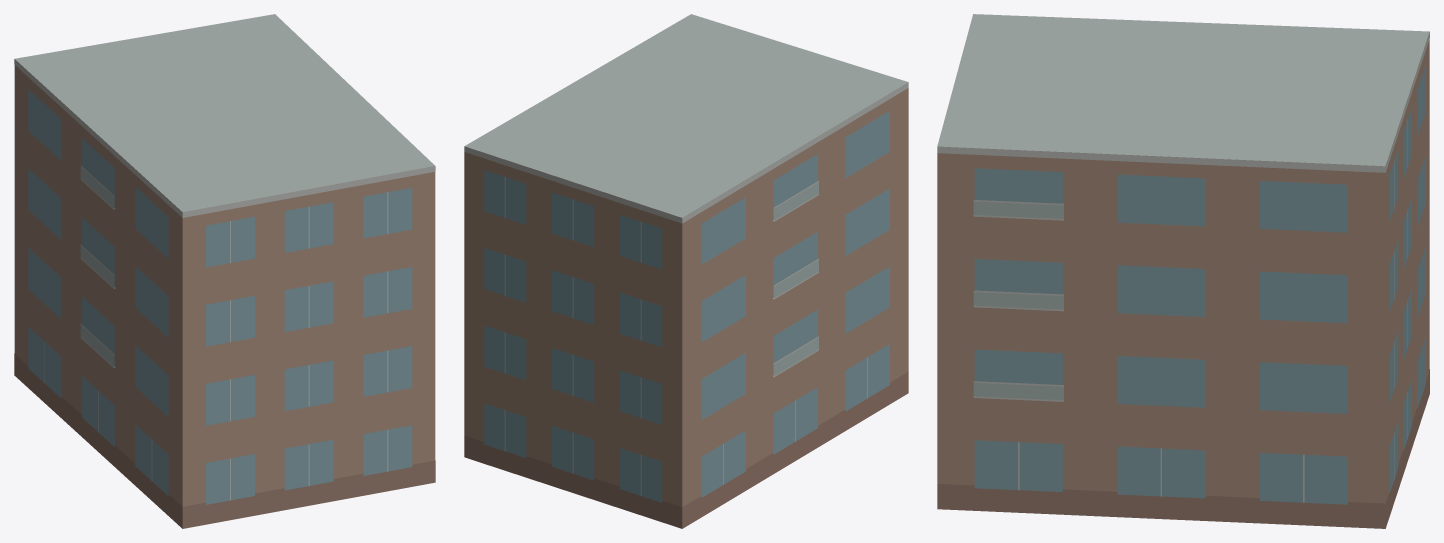
Rendered from survey-upis-32938435.glb.
3 renders of one model, left to right at view 1: azimuth 30°, elevation 25°; view 2: azimuth 150°, elevation 25°; view 3: azimuth 270°, elevation 25°, orthographic. The views are drawn at different scales.
Parts seen in each view (by area): view 1: survey-upis-32938435.tmp; view 2: survey-upis-32938435.tmp; view 3: survey-upis-32938435.tmp.
Boxes of the visible parts, x1=… form: survey-upis-32938435.tmp: x1=14, y1=14, x2=435, y2=528; survey-upis-32938435.tmp: x1=464, y1=14, x2=908, y2=528; survey-upis-32938435.tmp: x1=937, y1=14, x2=1429, y2=528.
Size of the model in its own units: 12.08 by 13.4 by 16.51.
